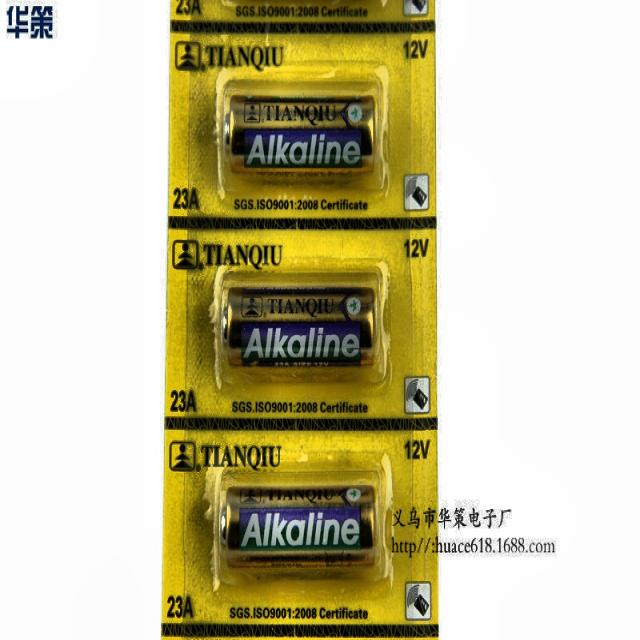Non-Valuable Waste - Batteries: (221, 488, 375, 566), (224, 289, 375, 367), (226, 96, 374, 171)
